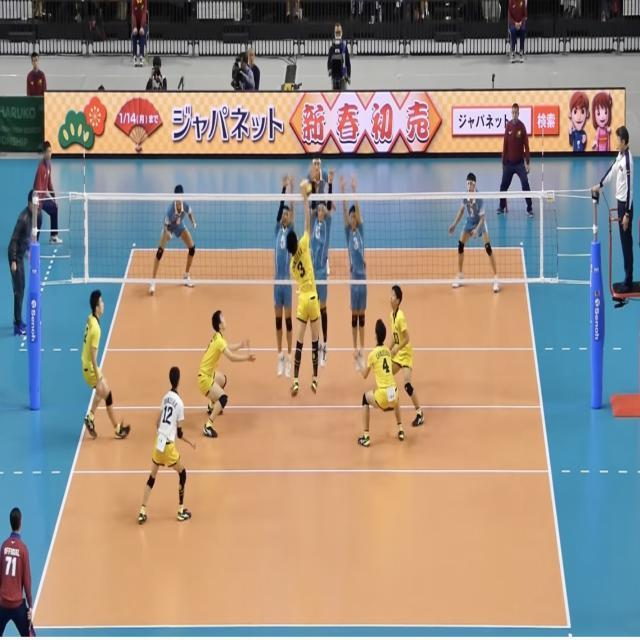spike: (282, 174, 324, 404)
